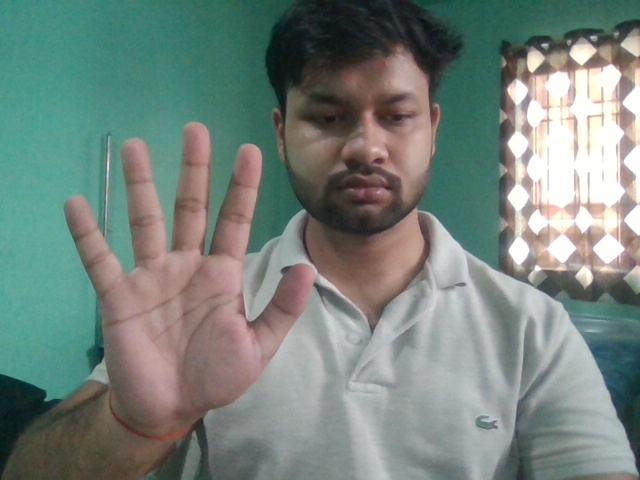Hello: (44, 113, 322, 441)
